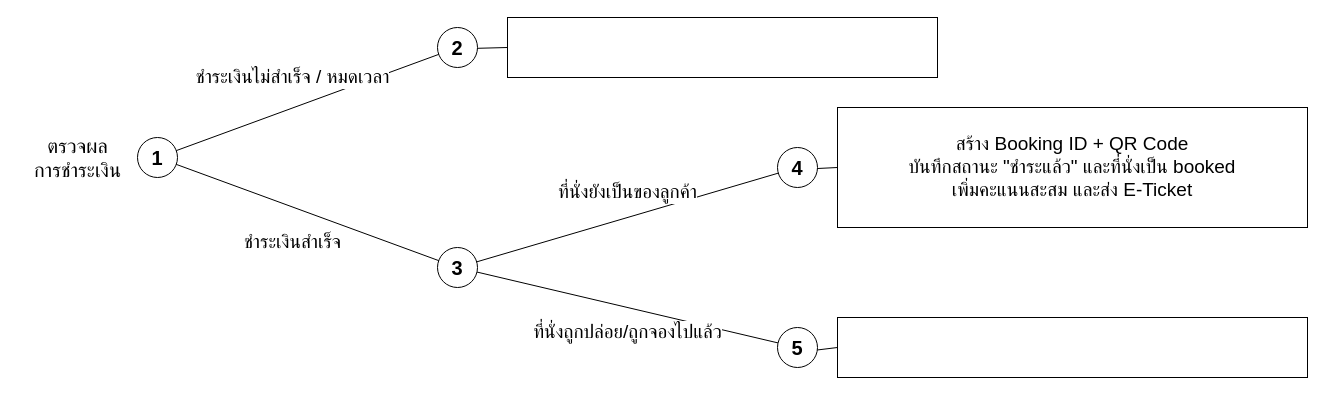
Some shapes in this 1326 by 395 pixel diagram are drawn without their labels. The shapes that lost their labels are listed below. From the top down, each one's box as (x1, y1, x2, y2) in pixels, then its label:
(506, 16, 938, 78): แจ้ง "ชำระเงินไม่สำเร็จ" / ปล่อยที่นั่งเมื่อหมดเวลา
(836, 316, 1308, 378): ยกเลิกการจองและคืนเงินอัตโนมัติผ่าน Stripe
